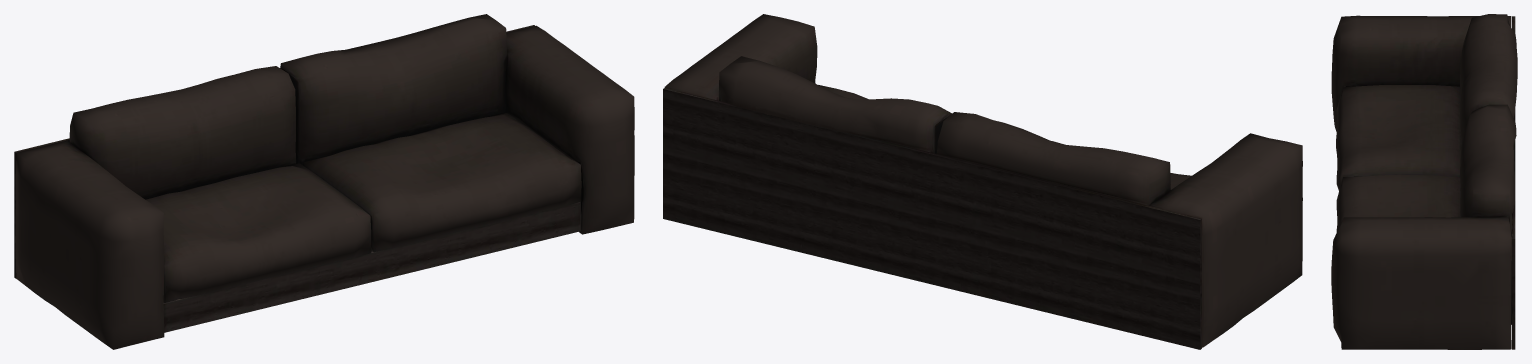
Rendered from Low Poly Modern Sofa.glb.
The picture shows the model from 3 angles, left to right: view 1: azimuth 30°, elevation 25°; view 2: azimuth 150°, elevation 25°; view 3: azimuth 270°, elevation 25°; orthographic projection. The views are drawn at different scales.
Visible parts, largest first — view 1: Object_4; view 2: Object_4; view 3: Object_4.
Part boxes in pixels (<box>): Object_4: <box>14,14,634,349</box>; Object_4: <box>663,14,1302,349</box>; Object_4: <box>1331,14,1517,349</box>.
Size of the model in its own units: 3.03 by 0.8748 by 1.05.
Materials: 1 (1 with a texture image).
